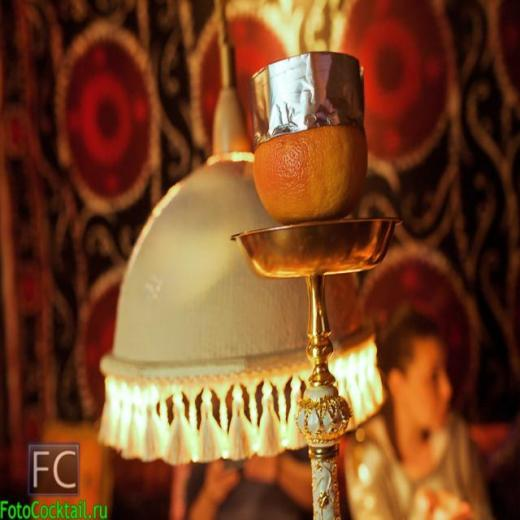Grape: (251, 124, 368, 226)
